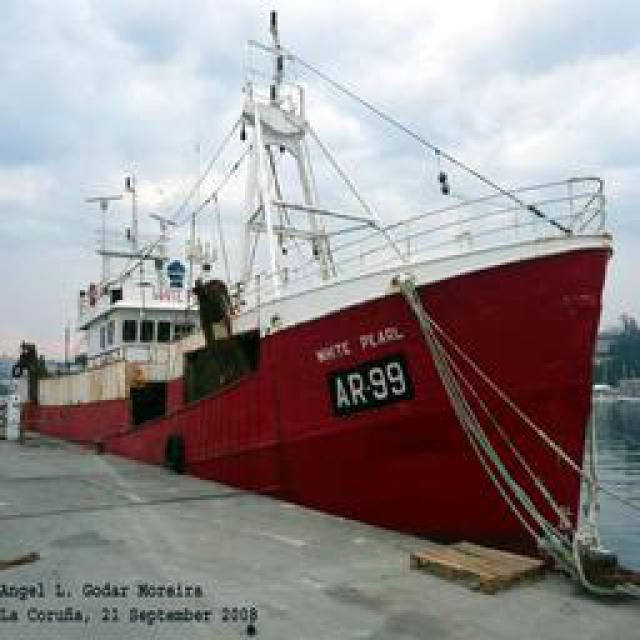Ship: (38, 16, 626, 571)
